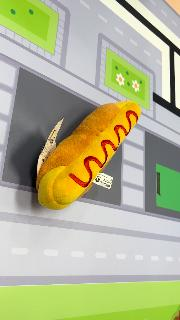hotdog: (36, 100, 142, 210)
